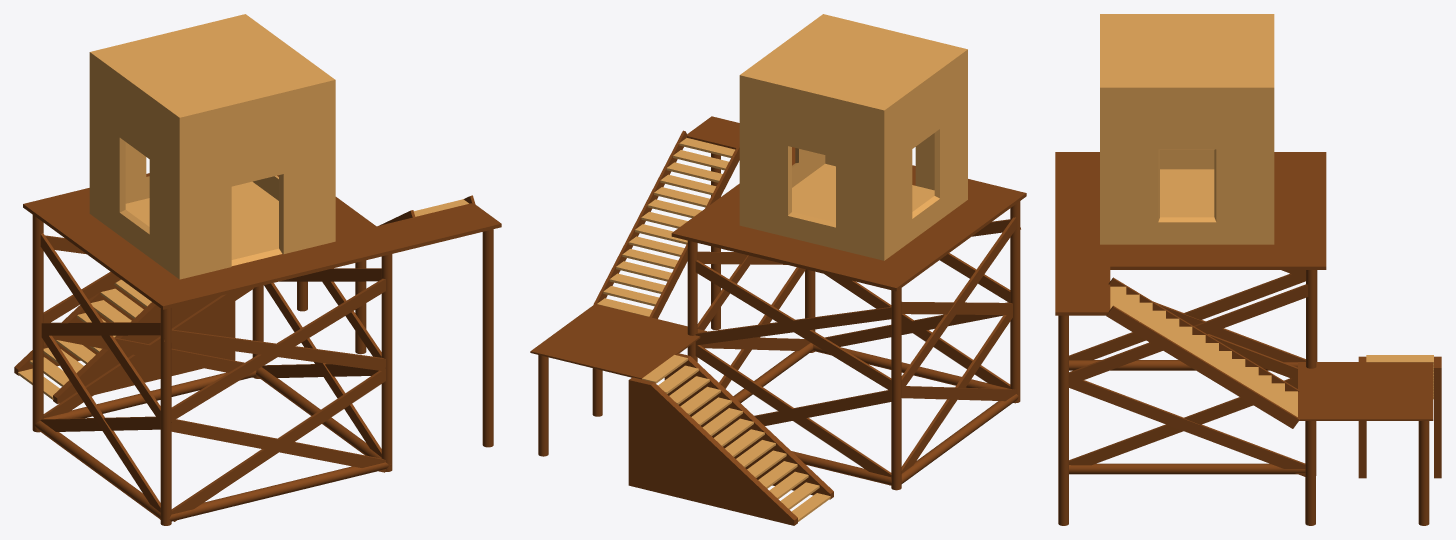
Rendered from Cabaña.fbx.
The picture shows the model from 3 angles, left to right: view 1: azimuth 30°, elevation 25°; view 2: azimuth 150°, elevation 25°; view 3: azimuth 270°, elevation 25°; orthographic projection. The views are drawn at different scales.
Visible parts, largest first — view 1: Cabaña; view 2: Cabaña; view 3: Cabaña.
Boxes of the visible parts, x1,y1,x2,y2 form: Cabaña: [14, 14, 501, 525]; Cabaña: [530, 14, 1026, 525]; Cabaña: [1055, 14, 1441, 525].
Bounding box in the file's own units: 571 × 563 × 612.
